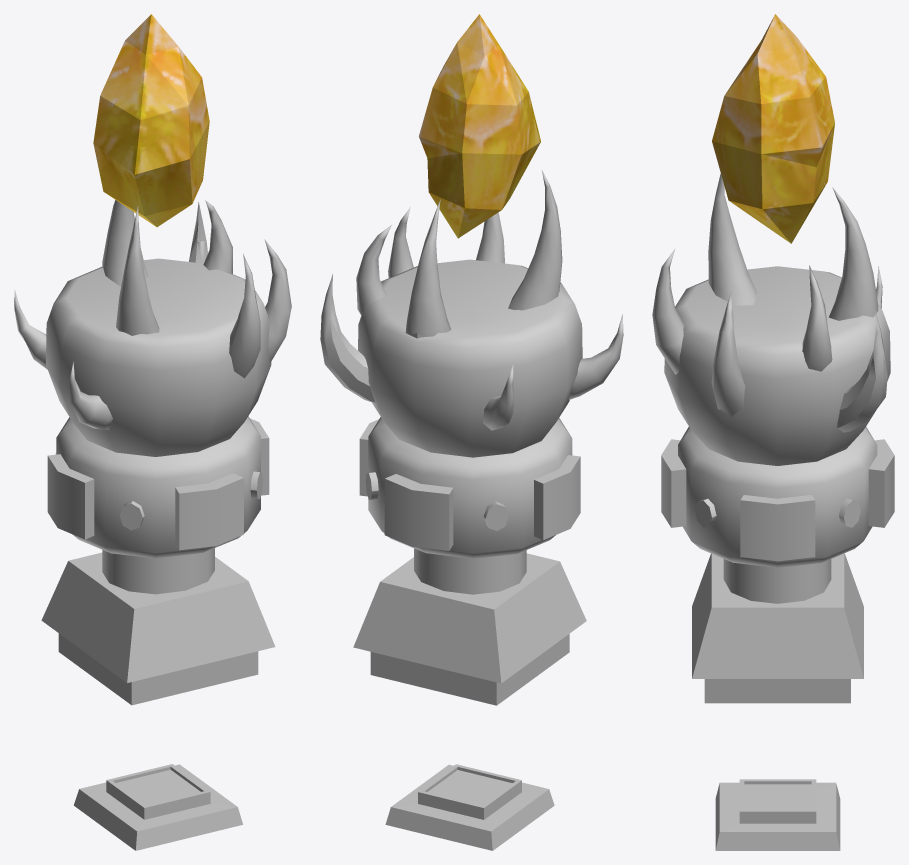
File: Tower_hanbingta_yellow.FBX
The picture shows the model from 3 angles, left to right: view 1: azimuth 30°, elevation 25°; view 2: azimuth 150°, elevation 25°; view 3: azimuth 270°, elevation 25°; orthographic projection.
Visible parts, largest first — view 1: Tower_hanbingta_yellow, Tower_hanbingta_yellow_crystal; view 2: Tower_hanbingta_yellow, Tower_hanbingta_yellow_crystal; view 3: Tower_hanbingta_yellow, Tower_hanbingta_yellow_crystal.
Boxes of the visible parts, box(x1,y1,x2,y2) form: Tower_hanbingta_yellow: box(14, 200, 291, 850); Tower_hanbingta_yellow_crystal: box(93, 14, 209, 227); Tower_hanbingta_yellow: box(320, 170, 623, 850); Tower_hanbingta_yellow_crystal: box(419, 14, 540, 238); Tower_hanbingta_yellow: box(652, 173, 894, 850); Tower_hanbingta_yellow_crystal: box(712, 14, 834, 243).
Bounding box in the file's own units: 179 × 604 × 164.
